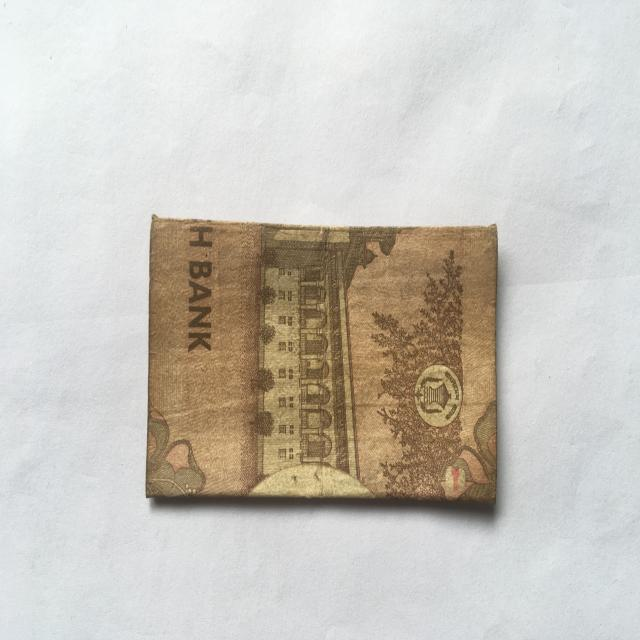Taka: (140, 204, 506, 516)
